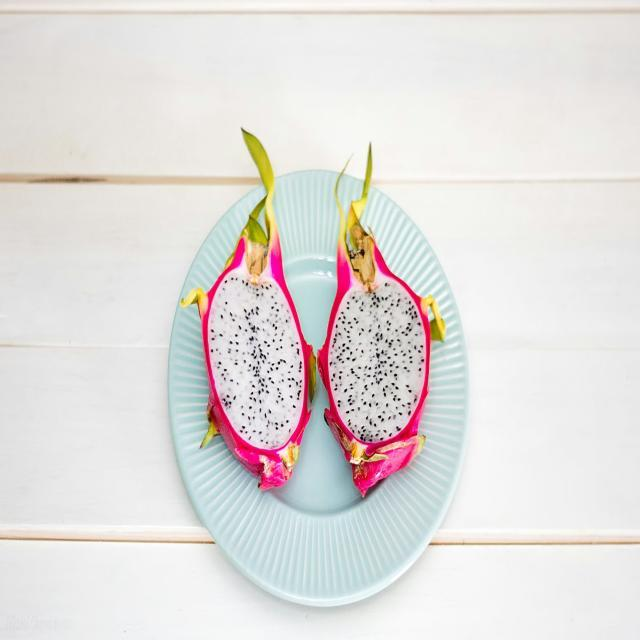dragon-fruit: (200, 259, 312, 478), (323, 264, 432, 457)
